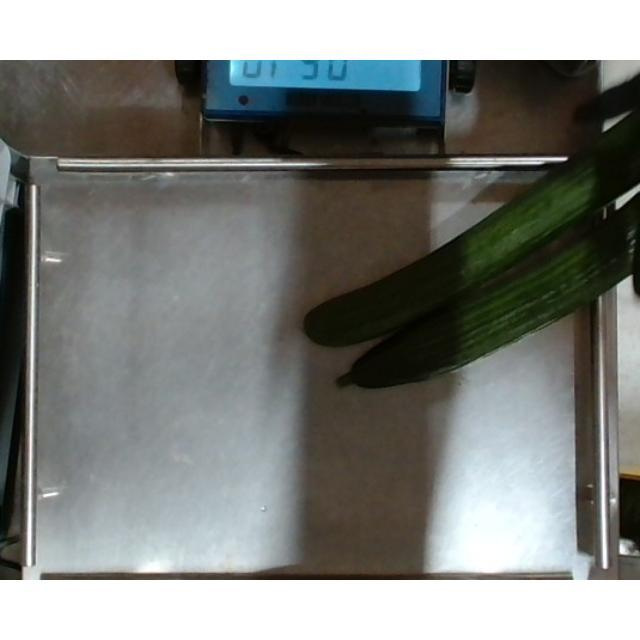cucumber: (302, 88, 640, 344), (326, 191, 640, 393)
